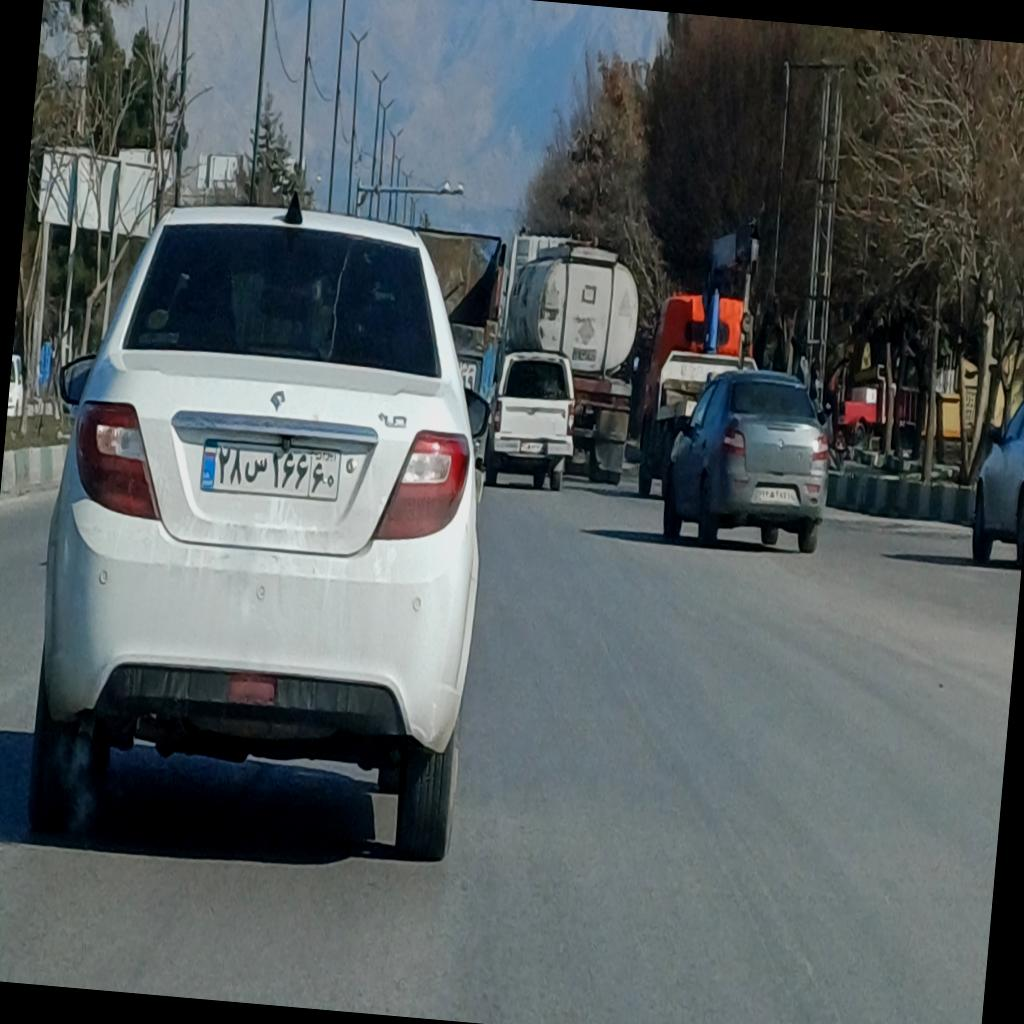Plates: (200, 437, 341, 502)
